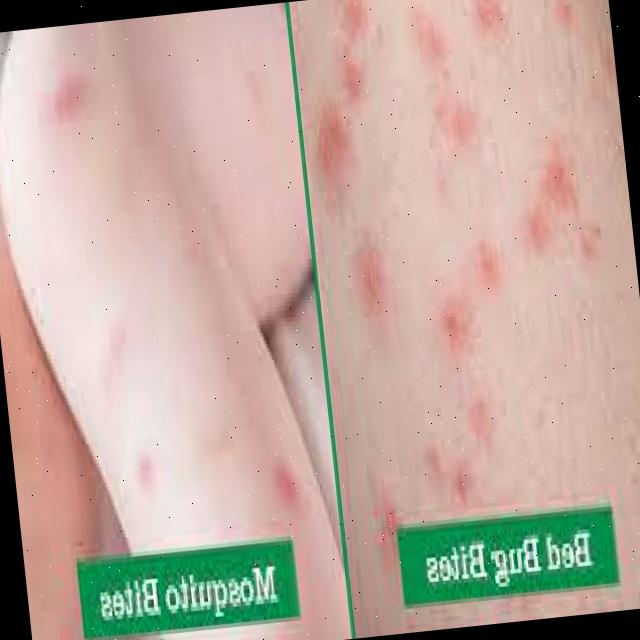kan emici bocekler: (525, 151, 597, 269), (327, 9, 384, 113), (312, 106, 368, 209), (427, 437, 481, 514), (405, 6, 460, 79), (351, 245, 394, 328), (429, 101, 481, 162), (458, 239, 502, 294), (463, 401, 503, 454), (471, 1, 513, 46), (446, 296, 478, 344)
sinek: (217, 429, 325, 569), (17, 51, 118, 161), (112, 423, 181, 536)
